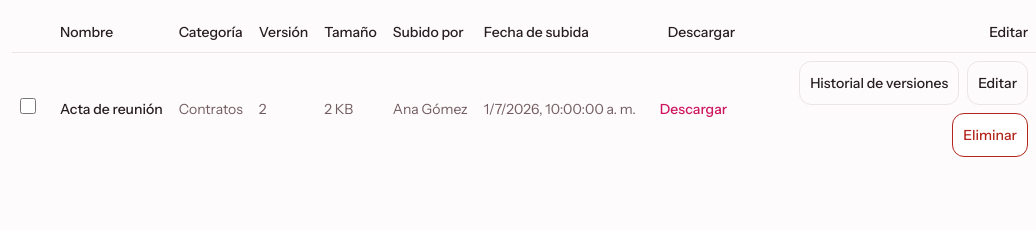
it: DocumentosTable (task 5a.3/5a.4, spec document-library) › surfaces a zip failure inline instead of failing silently (task 6.6)
Click the checkbox named "Seleccionar Acta de reunión". click: click(28, 106)
box: [20, 98, 36, 114]
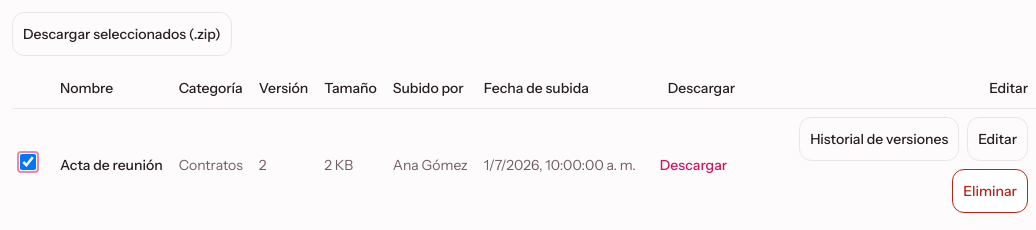
Click the button "Descargar seleccionados (.zip)". click: click(122, 34)
box: [12, 12, 232, 56]
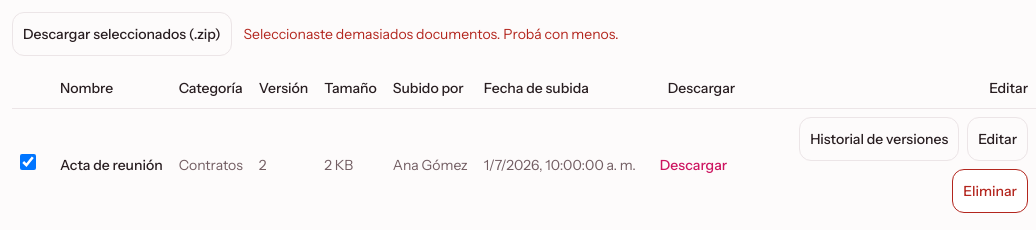
Now the message reads "Seleccionaste demasiados documentos. Probá con menos.", box [244, 25, 619, 43]
